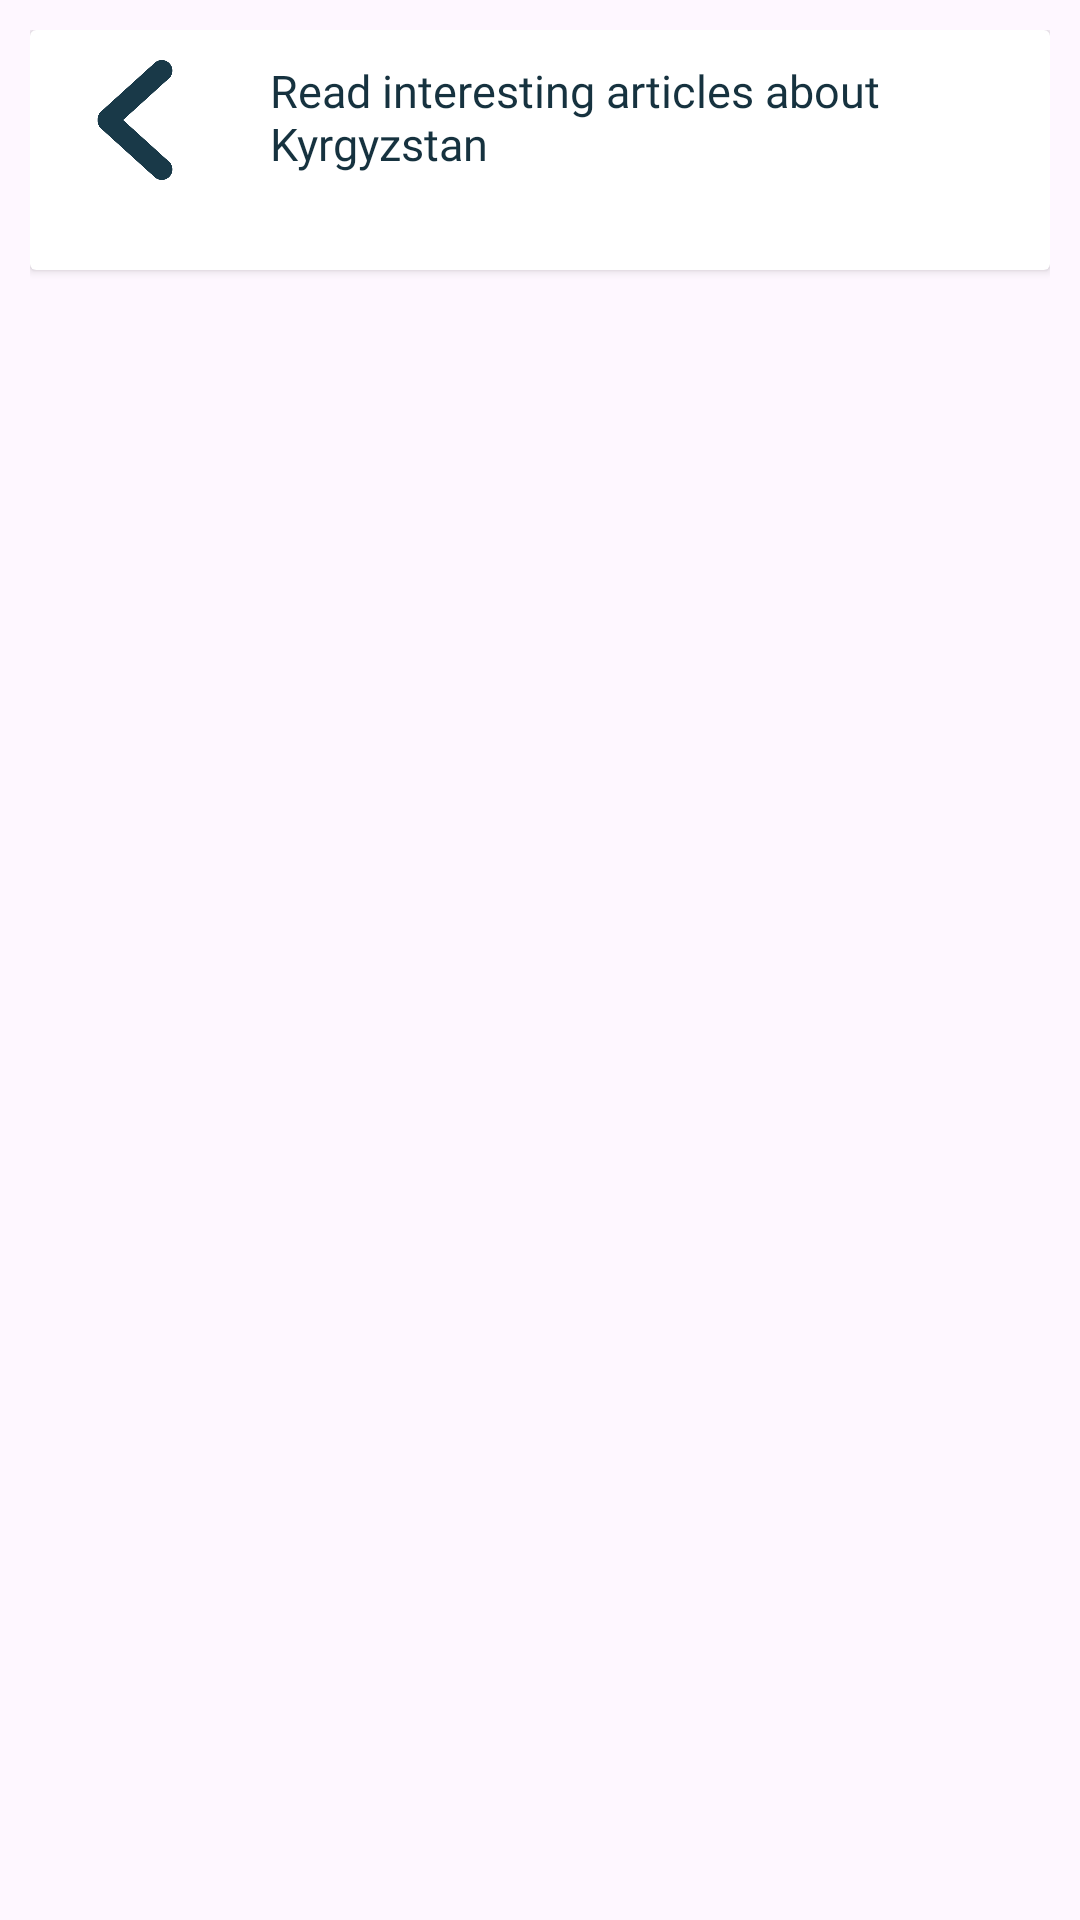

Screen size 1080px x 1920px. Icon name, then its box in pixels as (x1, y1, x2, y2):
leftarrow: (97, 60, 173, 180)
